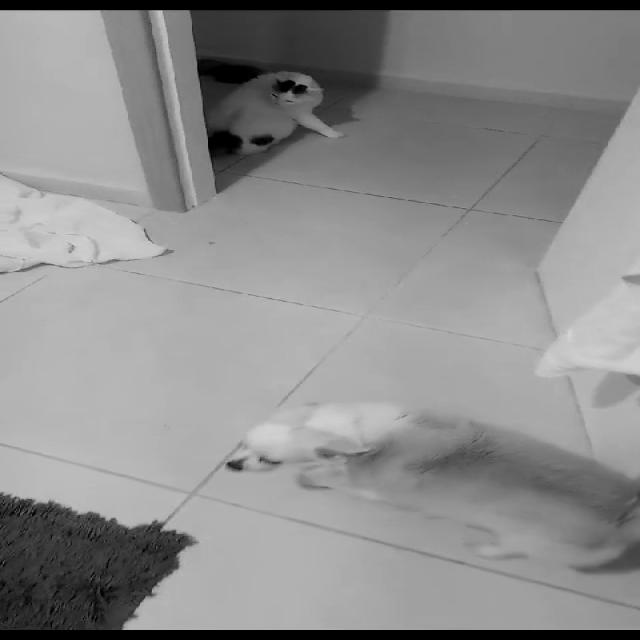Simba: (224, 66, 360, 156)
Theo: (188, 392, 638, 600)
